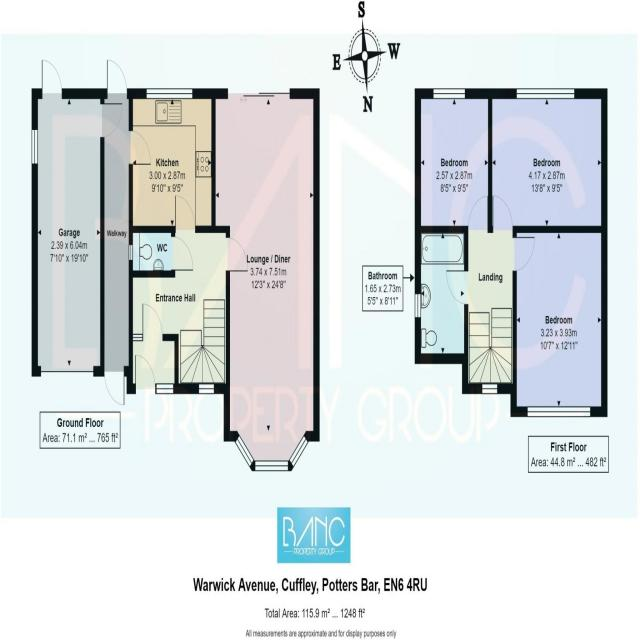DOOR: (105, 59, 128, 99), (174, 194, 196, 234), (41, 59, 63, 99), (226, 235, 249, 273), (100, 101, 123, 139), (513, 236, 536, 273), (446, 268, 469, 305), (135, 353, 156, 393), (142, 302, 163, 341), (492, 196, 514, 233), (129, 130, 152, 165), (467, 194, 488, 232)
ROOM: (211, 88, 320, 471), (511, 225, 608, 418), (488, 89, 608, 233), (129, 88, 216, 233), (414, 87, 493, 234)
WINDOW: (515, 87, 575, 100), (526, 406, 591, 418), (234, 433, 255, 468), (288, 434, 309, 469), (146, 88, 193, 99), (253, 460, 289, 472), (432, 87, 466, 99), (31, 128, 39, 166), (414, 290, 422, 318), (481, 381, 498, 394), (155, 383, 174, 394), (198, 383, 215, 395), (128, 243, 133, 261)
